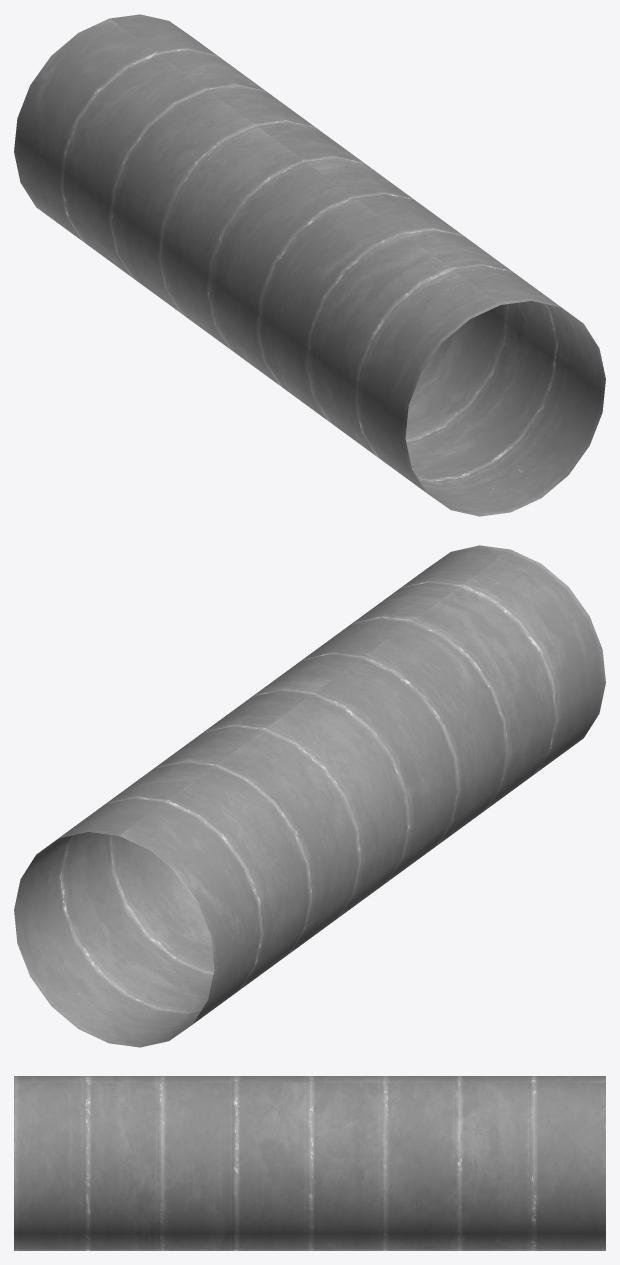
File: SM_Air_Vent_01e.glb
The picture shows the model from 3 angles, top to bottom: view 1: azimuth 30°, elevation 25°; view 2: azimuth 150°, elevation 25°; view 3: azimuth 270°, elevation 25°; orthographic projection. The views are drawn at different scales.
Parts seen in each view (by area): view 1: SM_Air_Vent_01e; view 2: SM_Air_Vent_01e; view 3: SM_Air_Vent_01e.
Part boxes in pixels (box(x1,y1,x2,y2)): SM_Air_Vent_01e: box(14, 14, 605, 516); SM_Air_Vent_01e: box(14, 545, 605, 1047); SM_Air_Vent_01e: box(14, 1076, 605, 1250).
Bounding box in the file's own units: 0.5916 × 0.5916 × 2.
Materials: 1 (1 with a texture image).
